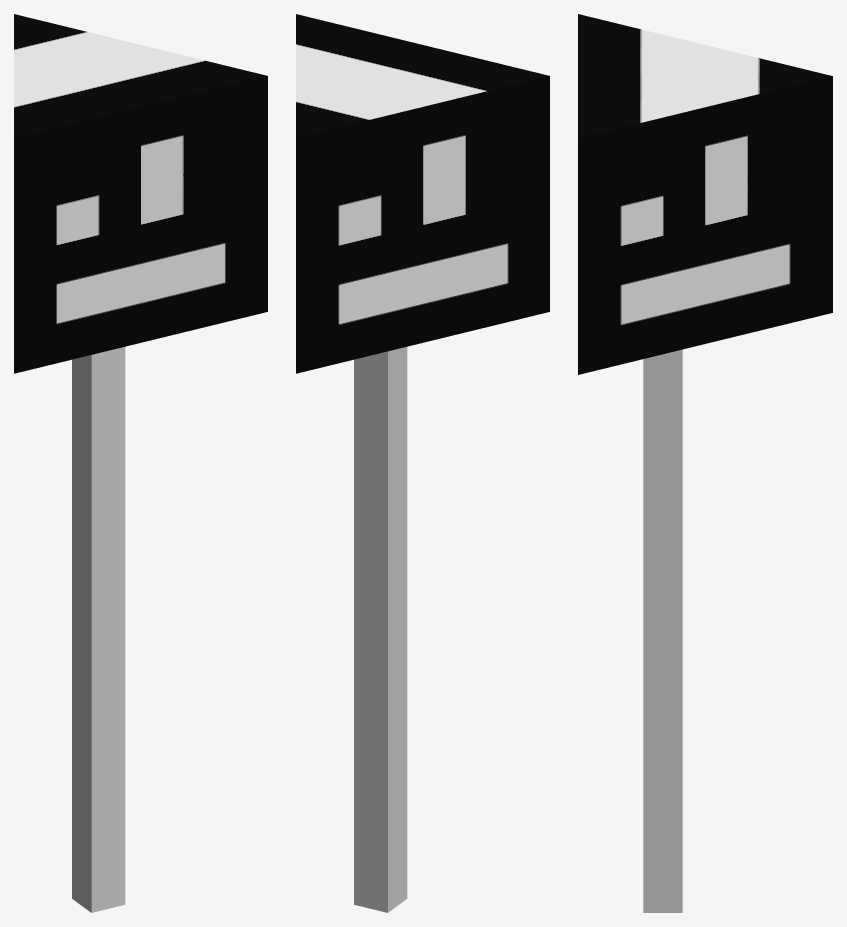
The model's file is aruco_13.dae.
The picture shows the model from 3 angles, left to right: view 1: azimuth 30°, elevation 25°; view 2: azimuth 150°, elevation 25°; view 3: azimuth 270°, elevation 25°; orthographic projection.
Visible parts, largest first — view 1: Cylinder.001; view 2: Cylinder.001; view 3: Cylinder.001.
Part boxes in pixels (<box>): Cylinder.001: <box>14,14,267,912</box>; Cylinder.001: <box>296,14,549,912</box>; Cylinder.001: <box>578,14,832,912</box>.
Size of the model in its own units: 0.2252 by 0.195 by 0.7.
2 materials, 1 textured.
